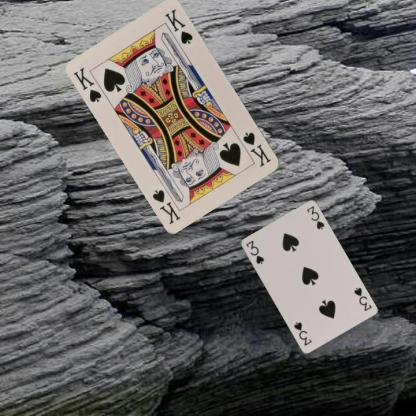3s: (243, 238, 265, 265), (350, 285, 372, 312)
Ks: (240, 129, 274, 169), (71, 64, 103, 104)
